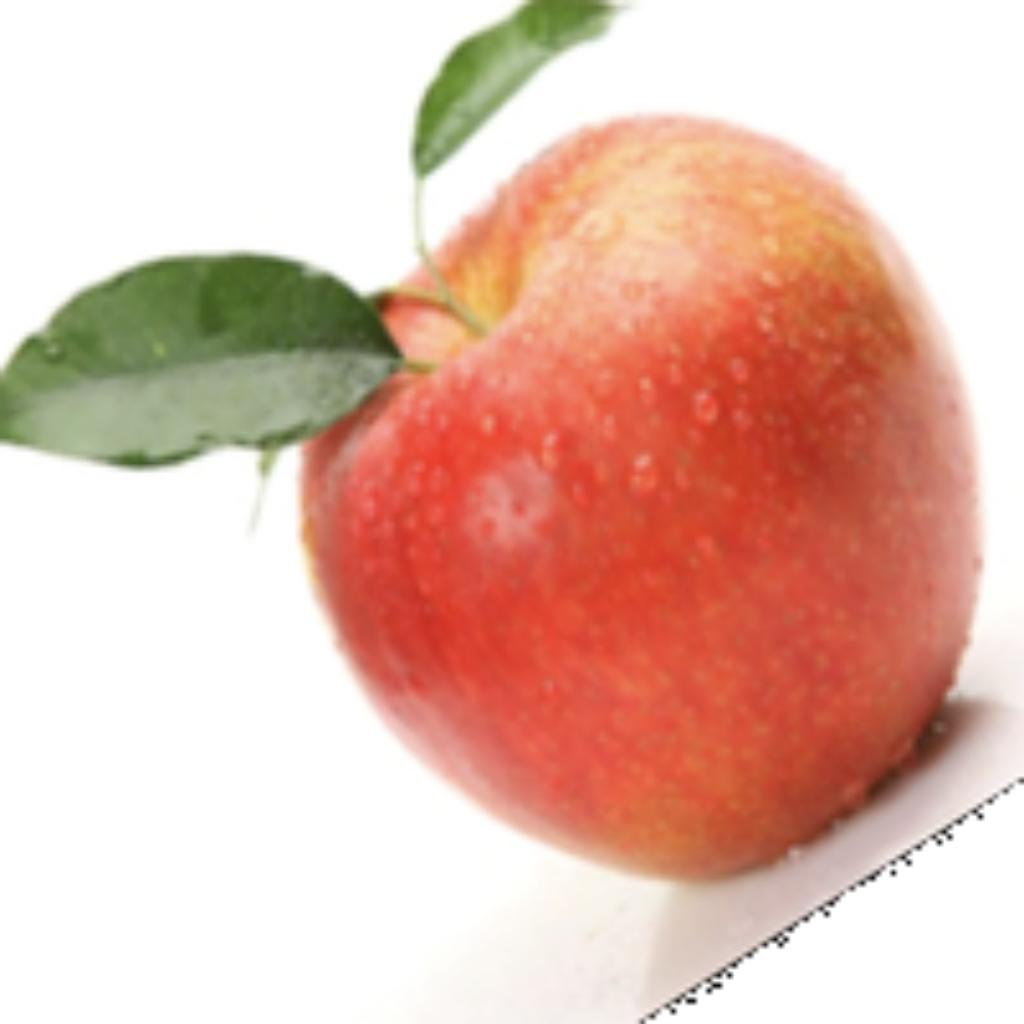apple: (0, 102, 1019, 1019)
